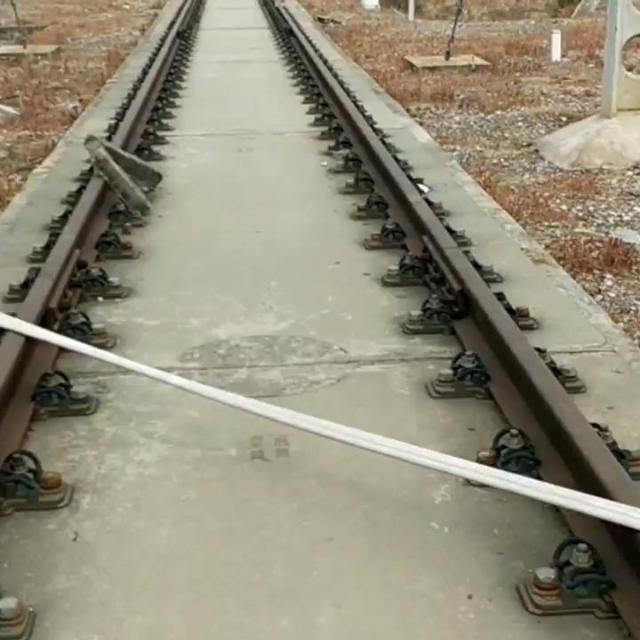rail: (262, 0, 640, 507), (17, 174, 113, 324), (115, 0, 200, 147), (0, 334, 57, 461), (568, 514, 640, 591)
